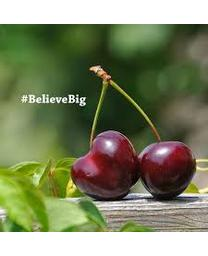cherry: (71, 130, 139, 201), (135, 141, 197, 201)
